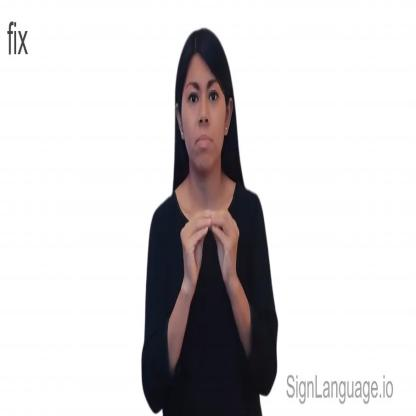Fix: (140, 26, 279, 416)
